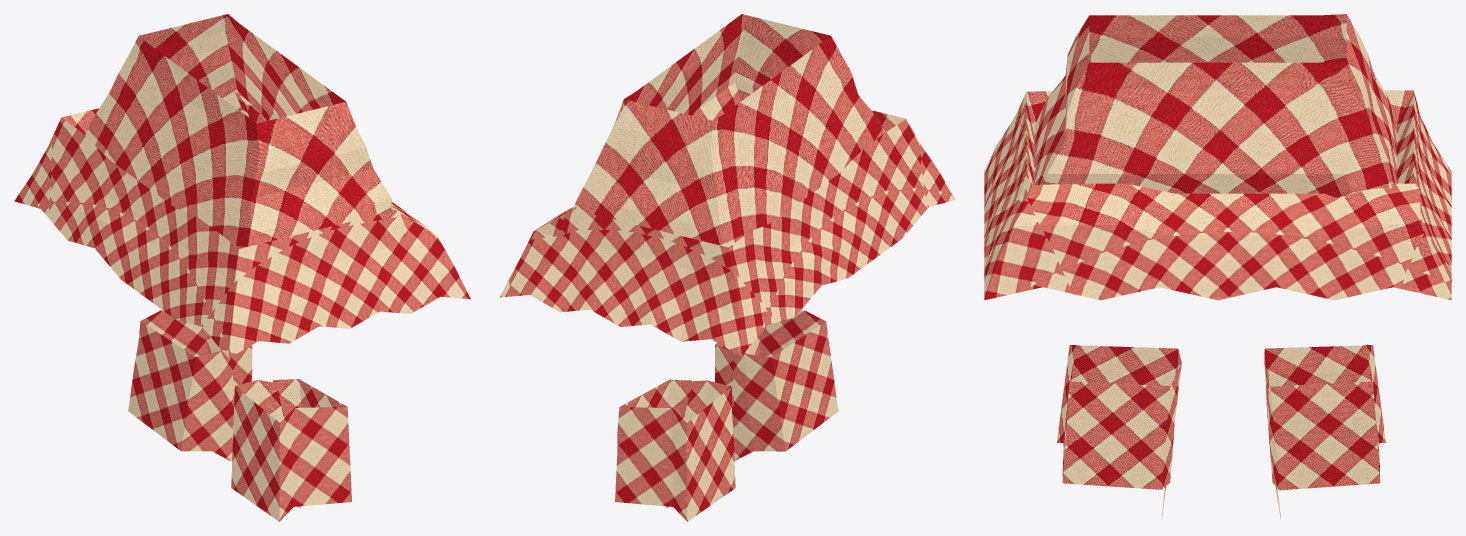
File: plaidskirt.glb
The picture shows the model from 3 angles, left to right: view 1: azimuth 30°, elevation 25°; view 2: azimuth 150°, elevation 25°; view 3: azimuth 270°, elevation 25°; orthographic projection. The views are drawn at different scales.
Parts seen in each view (by area): view 1: Cube.015, Plane.004, Plane.003; view 2: Cube.015, Plane.003, Plane.004; view 3: Cube.015, Plane.004, Plane.003.
Part boxes in pixels (x1,y1,x2,y2): Cube.015: (14,14,470,358); Plane.004: (231,379,351,521); Plane.003: (128,310,252,461); Cube.015: (499,14,955,356); Plane.003: (615,379,735,521); Plane.004: (715,310,838,460); Cube.015: (984,14,1451,300); Plane.004: (1056,345,1181,519); Plane.003: (1264,345,1385,519).
Size of the model in its own units: 2.23 by 3.78 by 3.43.
3 materials, 3 textured.
